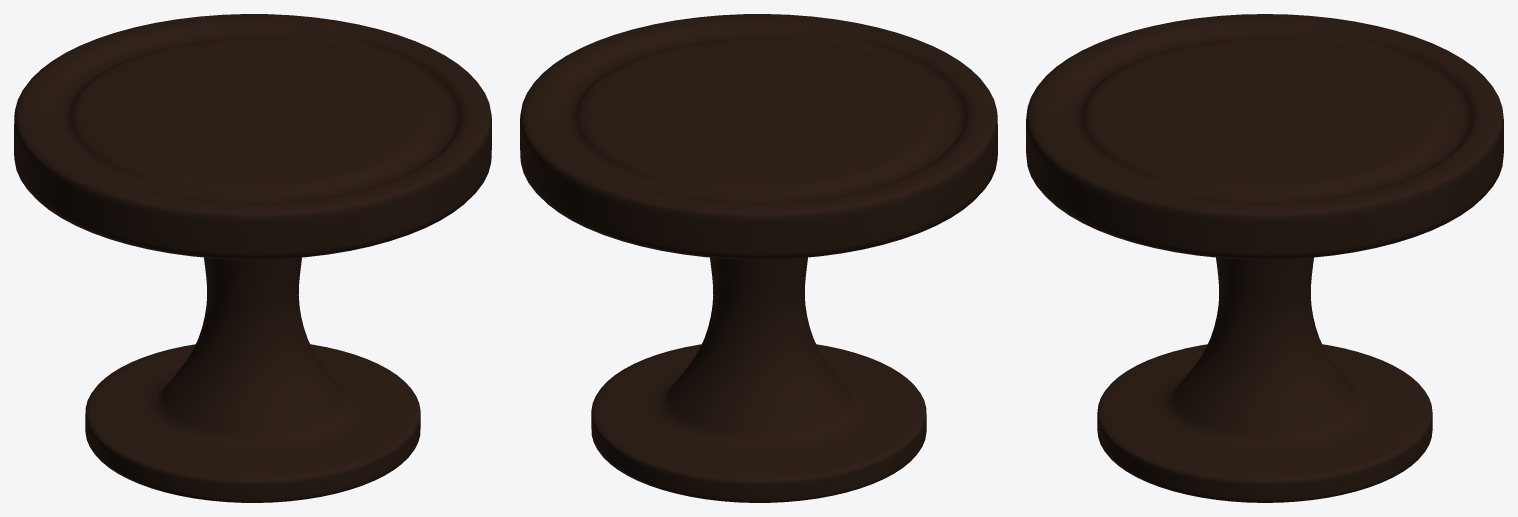
File: table.obj
3 views of the same model, side by side, from view 1: azimuth 30°, elevation 25°; view 2: azimuth 150°, elevation 25°; view 3: azimuth 270°, elevation 25° (orthographic).
Parts seen in each view (by area): view 1: Cylinder.010; view 2: Cylinder.010; view 3: Cylinder.010.
Boxes of the visible parts, x1,y1,x2,y2 form: Cylinder.010: (14,14,491,502); Cylinder.010: (520,14,997,502); Cylinder.010: (1026,14,1503,502).
Bounding box in the file's own units: 1.4 × 1.05 × 1.4.
